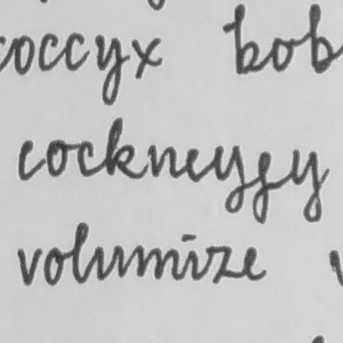c: (15, 138, 41, 182), (74, 138, 99, 178)
e: (183, 145, 204, 185)
f: (250, 150, 274, 226)
k: (103, 116, 140, 181)
n: (146, 142, 180, 180)
o: (44, 137, 70, 179)
y: (289, 147, 324, 224), (211, 143, 247, 215)
